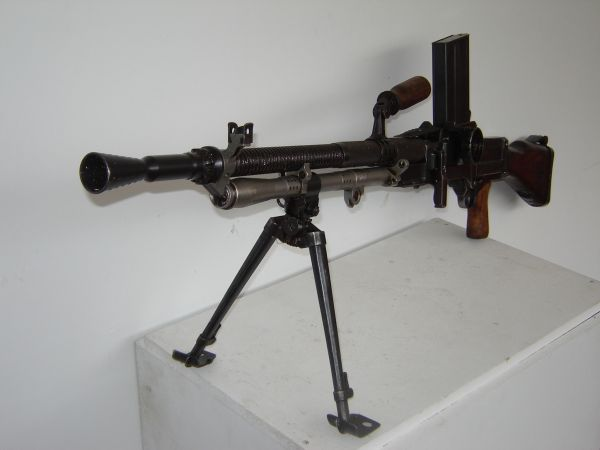rifle: (59, 29, 573, 322)
